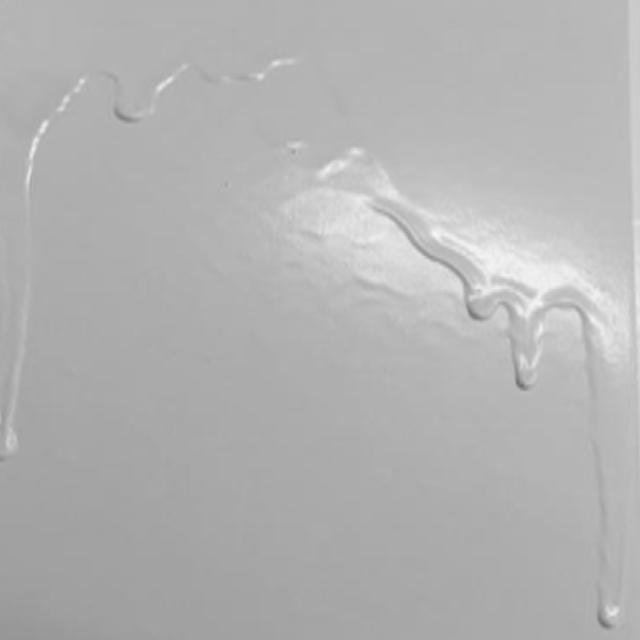paint drips: (312, 108, 594, 403), (13, 29, 306, 202), (4, 118, 66, 474), (582, 252, 632, 632)
